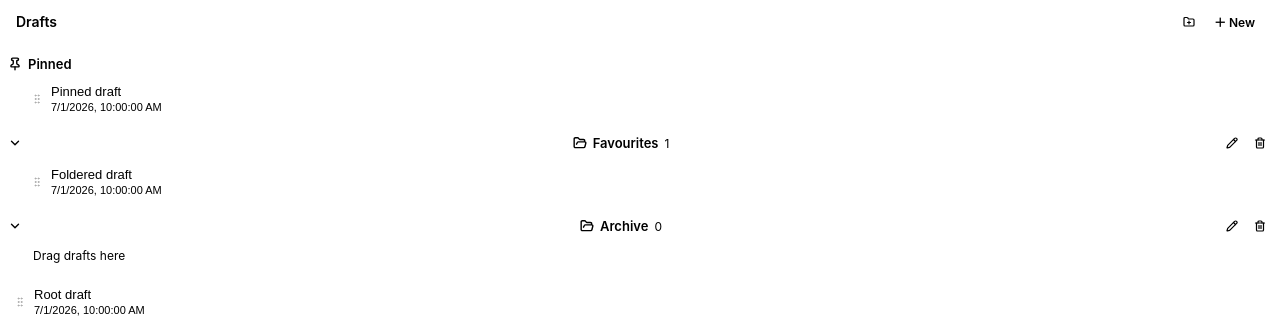
Test: DraftsRail › renames a folder inline via the API
This screenshot has width=1280, height=333.
Expected: the text "Favourites" is shown, top-left (593, 135), bottom-right (658, 151)
Click the button named "Rename folder Favourites" at (1232, 143), box top-left (1220, 131), bottom-right (1244, 155)
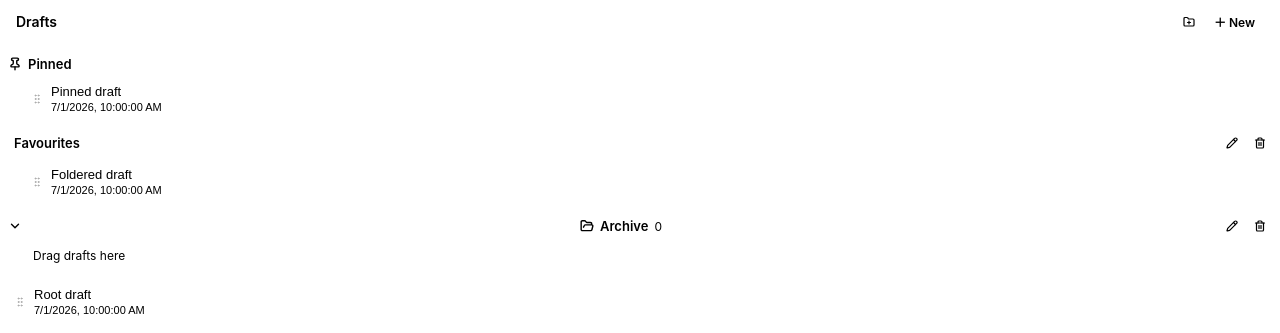
Replace the text in the field named "Folder name" with "Renamed" at (610, 143), box top-left (8, 133), bottom-right (1212, 153)
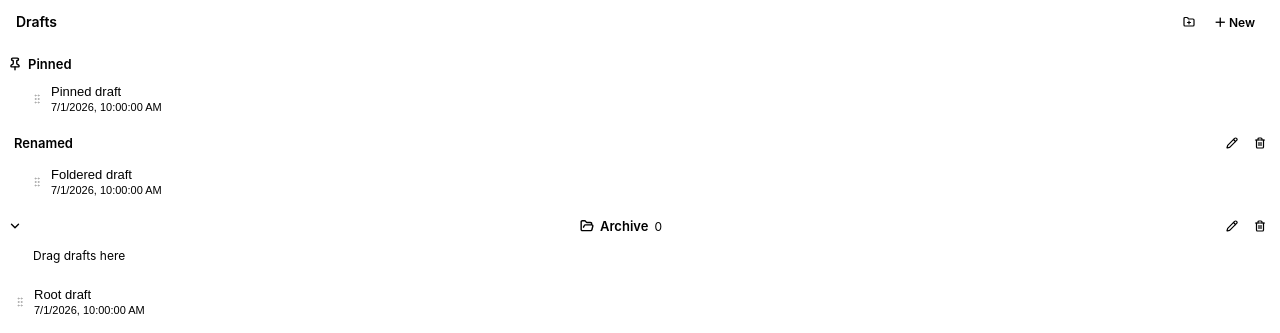
Leave the field named "Folder name", box top-left (8, 133), bottom-right (1212, 153)
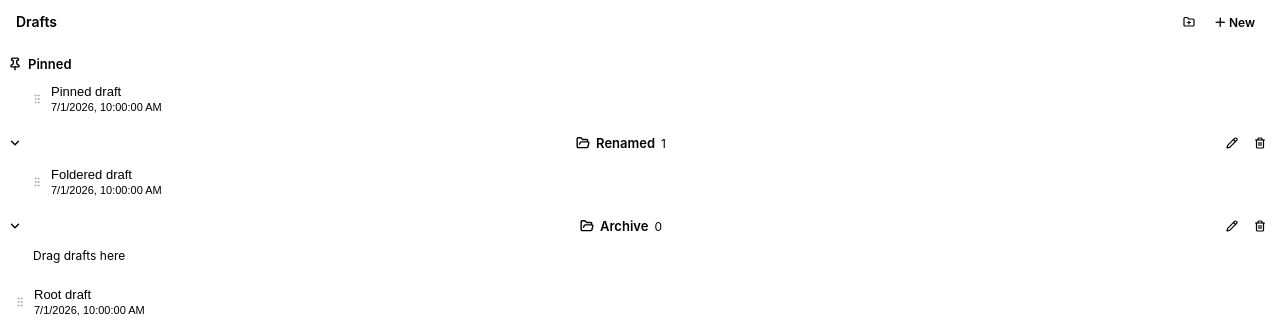
Expected: the text "Renamed" is shown, top-left (596, 135), bottom-right (655, 151)
